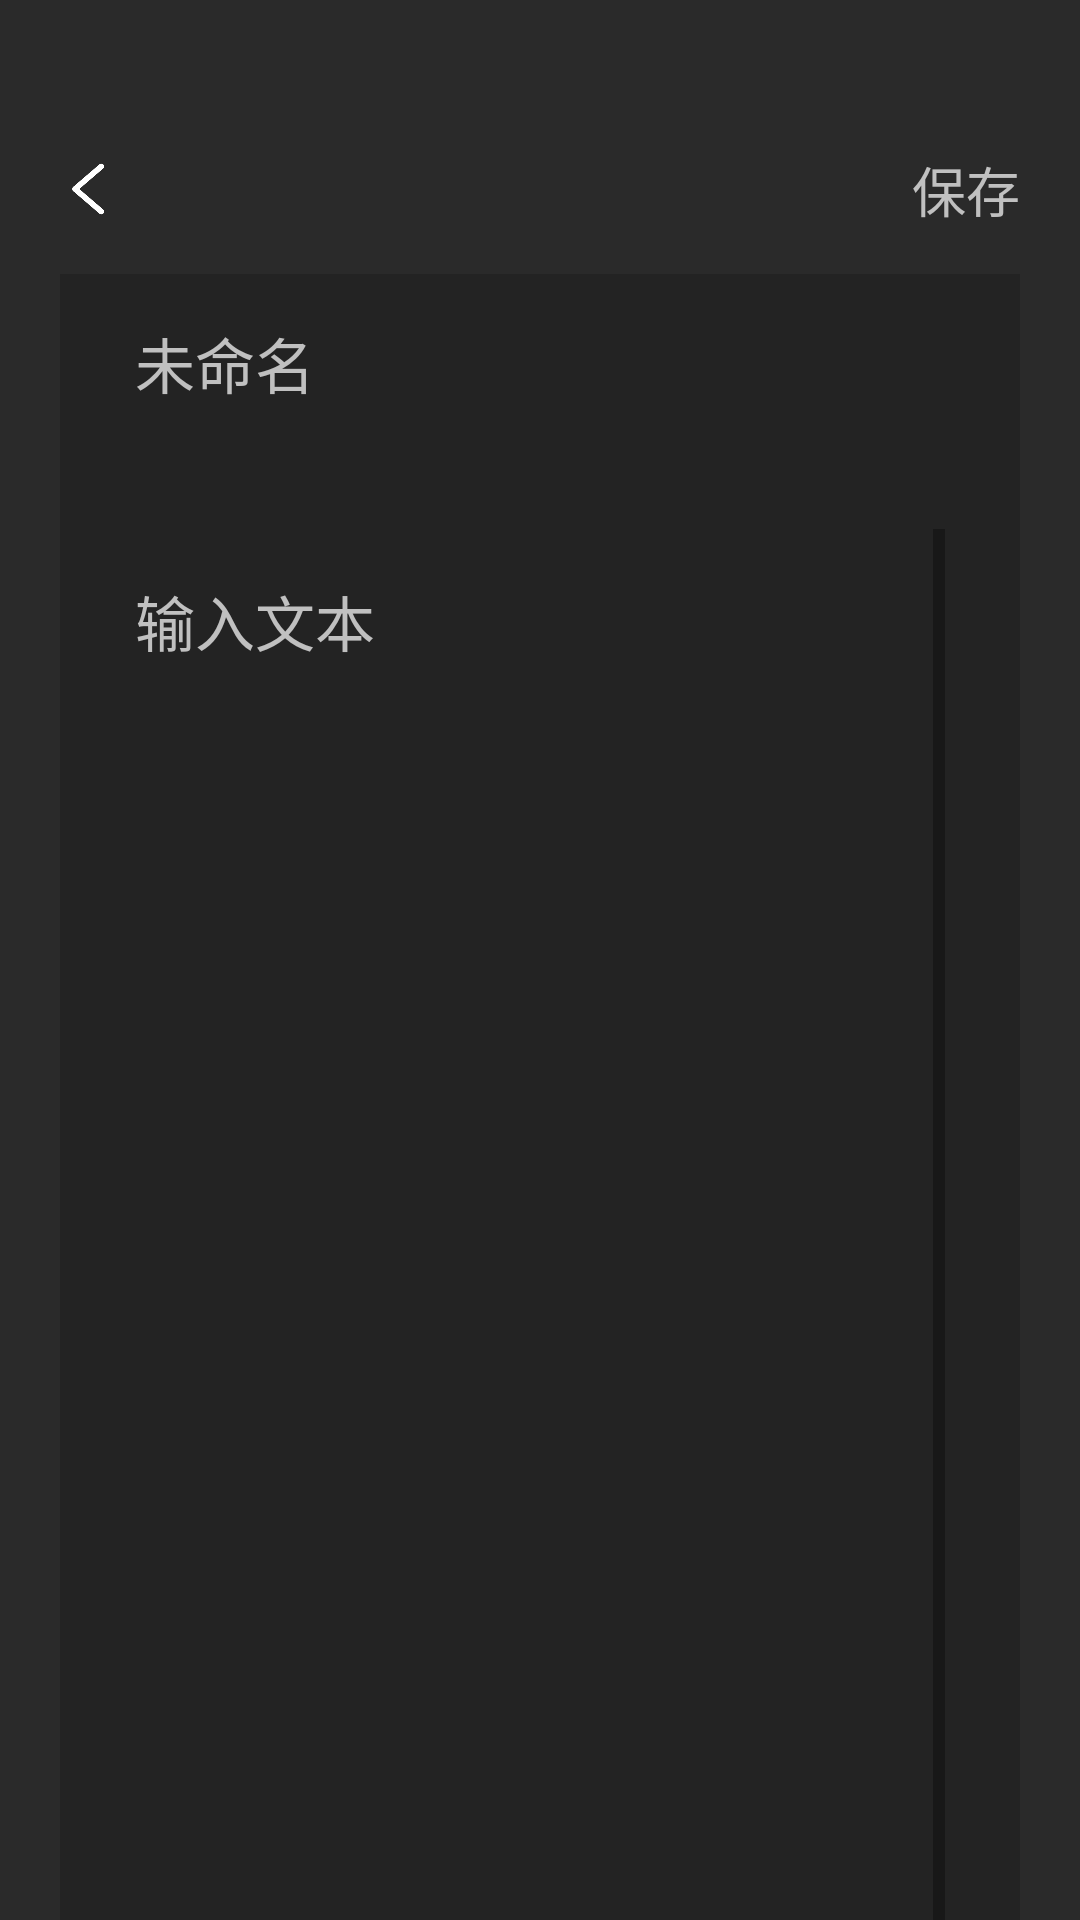

Where icons sit on this 1080px x 1920px app screen, as (x1, y1, x2, y2):
left: (72, 164, 104, 215)
